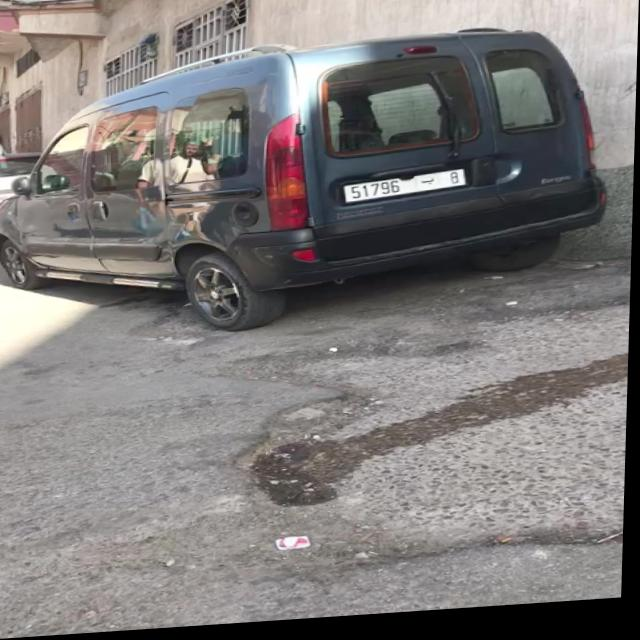License-Plate: (346, 176, 468, 206)
